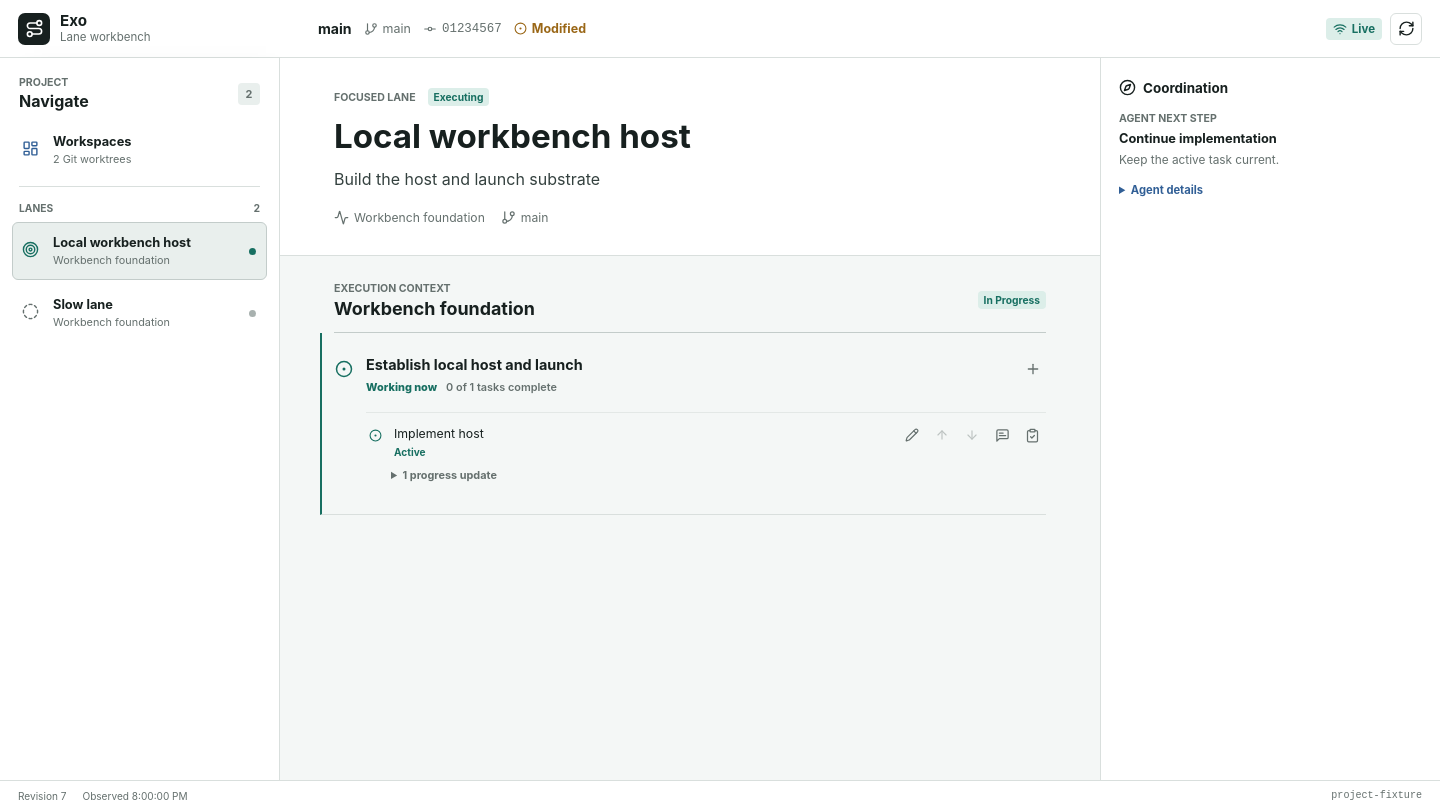
Test: cockpit page › does not add history when a first inspection is canceled
Expected: the heading "Local workbench host" is shown, [334,116,691,156]
Click the button with aria-label "Inspect Slow lane, phase in progress".
click(140, 313)  # box [12,284,267,342]
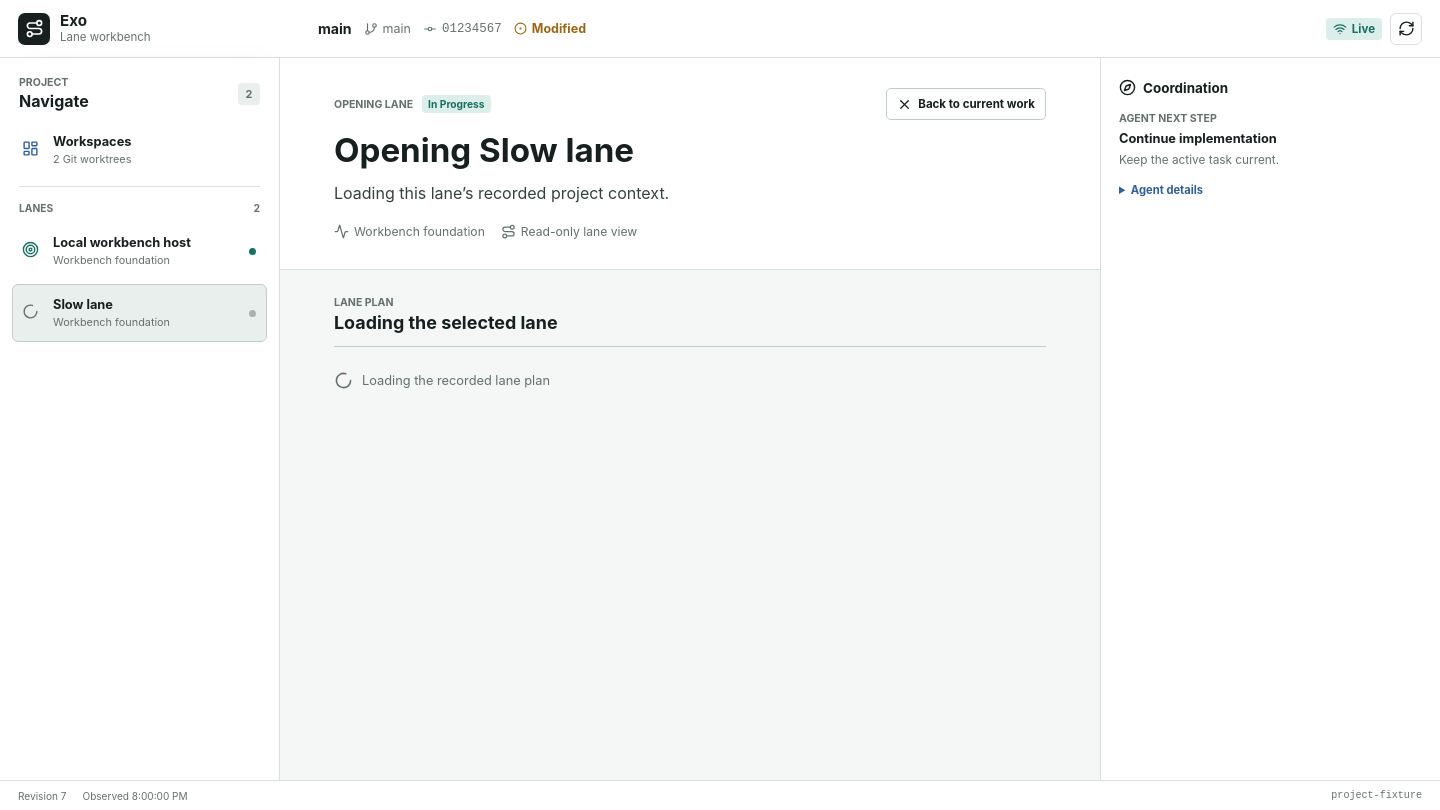
Expected: the button with aria-label "Opening Slow lane" is shown, [12,284,267,342]
Click the button "Back to current work".
click(966, 104)  # box [886,88,1046,120]
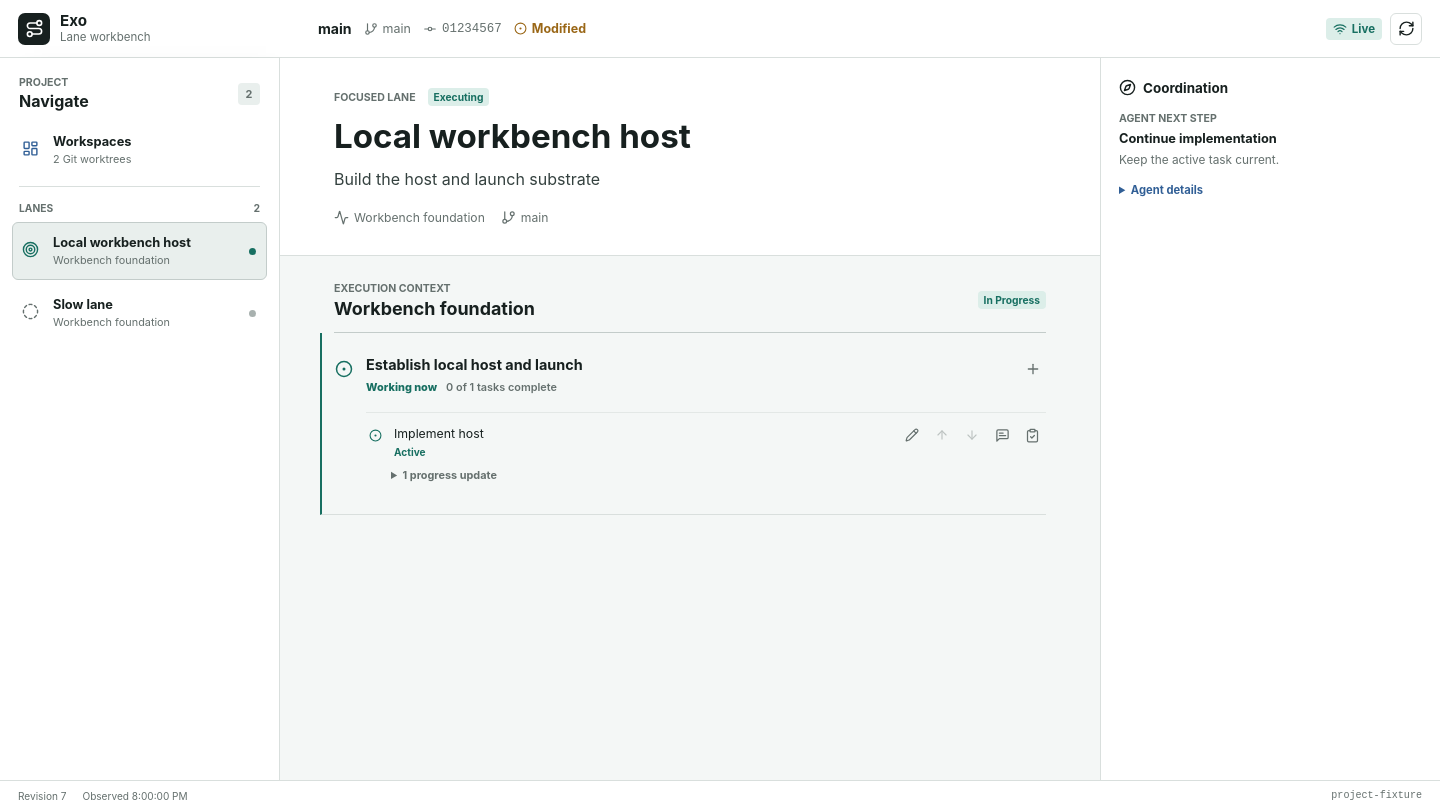
Expected: the heading "Local workbench host" is shown, [334,116,691,156]
